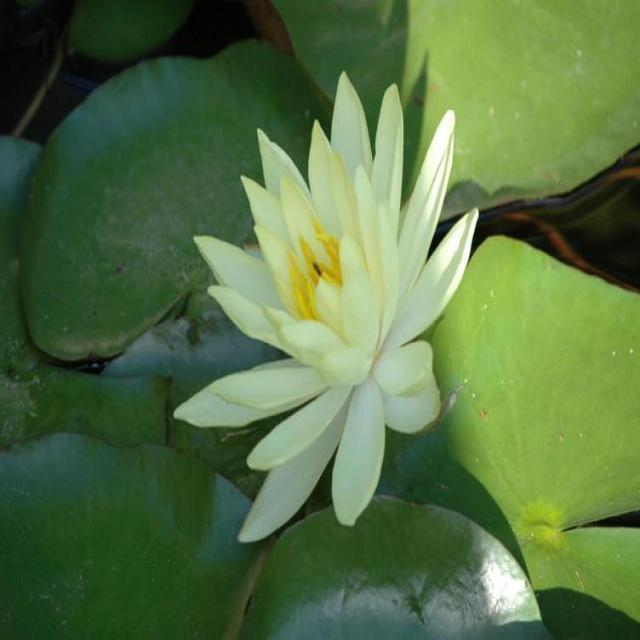rose: (85, 39, 610, 640)
